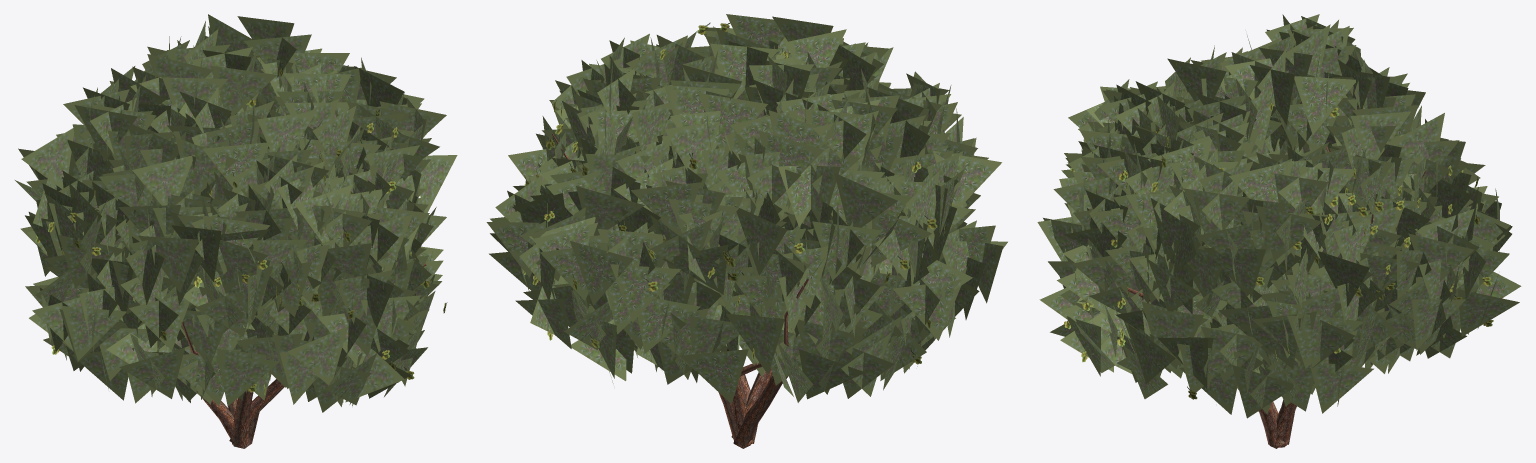
Rendered from Arbutus_Unedo_Spring_Adult.glb.
The picture shows the model from 3 angles, left to right: view 1: azimuth 30°, elevation 25°; view 2: azimuth 150°, elevation 25°; view 3: azimuth 270°, elevation 25°; orthographic projection. The views are drawn at different scales.
Parts seen in each view (by area): view 1: Arbutus_Unedo_Spring_Adult__LOD3; view 2: Arbutus_Unedo_Spring_Adult__LOD3; view 3: Arbutus_Unedo_Spring_Adult__LOD3.
Part boxes in pixels (box(x1,y1,x2,y2)): Arbutus_Unedo_Spring_Adult__LOD3: box(15, 14, 457, 448); Arbutus_Unedo_Spring_Adult__LOD3: box(486, 14, 1007, 448); Arbutus_Unedo_Spring_Adult__LOD3: box(1037, 14, 1521, 448).
Size of the model in its own units: 8.44 by 7.65 by 8.63.
Materials: 3 (3 with a texture image).
